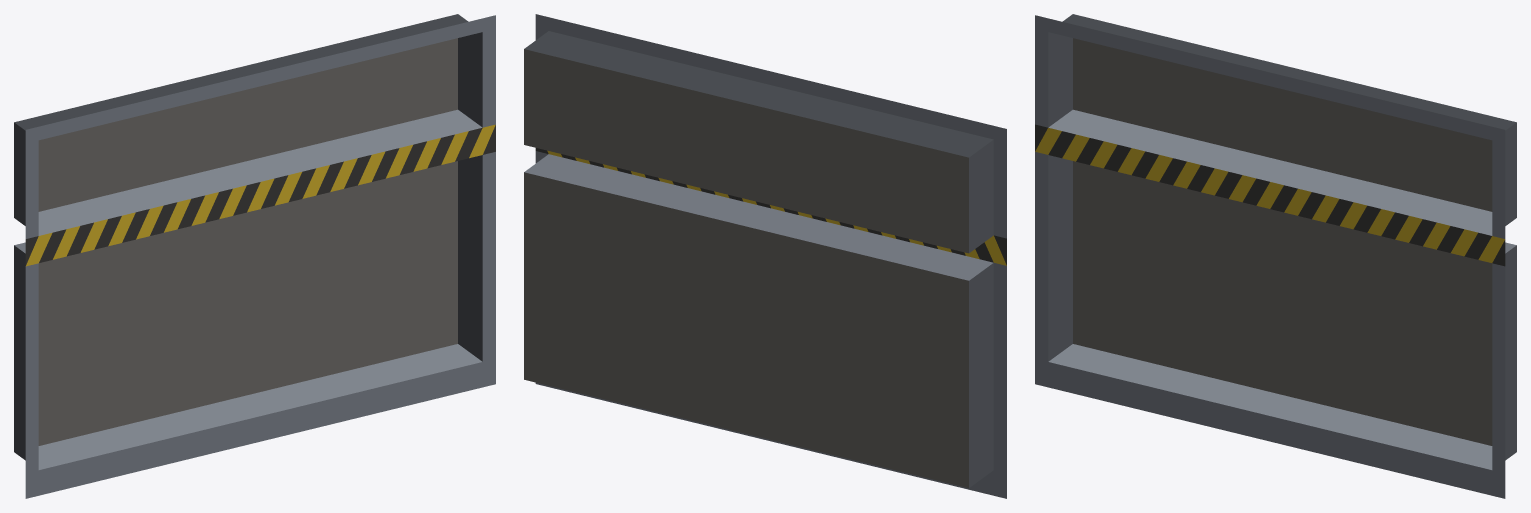
File: AI_Env_Bunker_Wall_Blank.fbx
3 views of the same model, side by side, from view 1: azimuth 30°, elevation 25°; view 2: azimuth 150°, elevation 25°; view 3: azimuth 330°, elevation 25° (orthographic).
Visible parts, largest first — view 1: AI_Env_Bunker_Wall_Blank; view 2: AI_Env_Bunker_Wall_Blank; view 3: AI_Env_Bunker_Wall_Blank.
Part boxes in pixels (bbox=[...]): AI_Env_Bunker_Wall_Blank: bbox=[14, 14, 495, 498]; AI_Env_Bunker_Wall_Blank: bbox=[524, 14, 1006, 498]; AI_Env_Bunker_Wall_Blank: bbox=[1035, 14, 1516, 498].
Bounding box in the file's own units: 5 × 3.75 × 0.4546.
